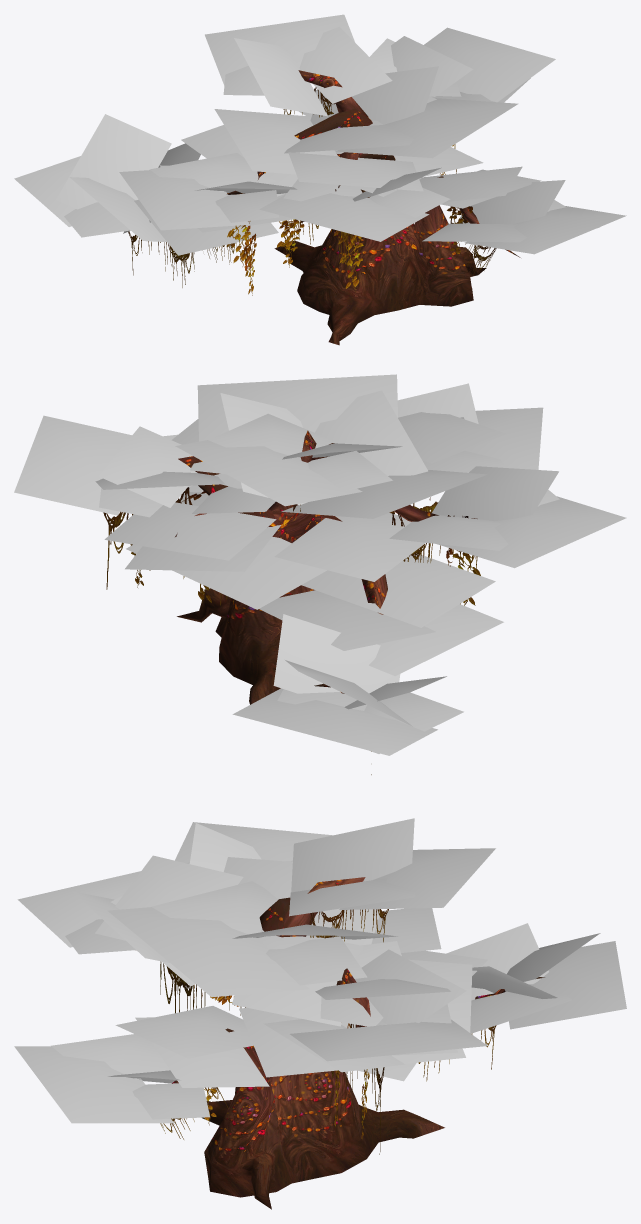
The model's file is environment_Tree_yellow_006_a.FBX.
3 renders of one model, top to bottom at view 1: azimuth 30°, elevation 25°; view 2: azimuth 150°, elevation 25°; view 3: azimuth 270°, elevation 25°, orthographic. The views are drawn at different scales.
Parts seen in each view (by area): view 1: environment_Tree_yellow_006_a, environment_Tree_yellow_006_b, environment_Tree_yellow_006_d, environment_Tree_yellow_006_c; view 2: environment_Tree_yellow_006_a, environment_Tree_yellow_006_b, environment_Tree_yellow_006_c, environment_Tree_yellow_006_d; view 3: environment_Tree_yellow_006_a, environment_Tree_yellow_006_b, environment_Tree_yellow_006_c, environment_Tree_yellow_006_d.
Part boxes in pixels (left/top/right/bottom): environment_Tree_yellow_006_a: left=14, top=14, right=626, bottom=255; environment_Tree_yellow_006_b: left=227, top=70, right=520, bottom=345; environment_Tree_yellow_006_d: left=226, top=145, right=472, bottom=295; environment_Tree_yellow_006_c: left=128, top=87, right=496, bottom=287; environment_Tree_yellow_006_a: left=14, top=374, right=626, bottom=755; environment_Tree_yellow_006_b: left=175, top=430, right=477, bottom=704; environment_Tree_yellow_006_c: left=103, top=487, right=477, bottom=774; environment_Tree_yellow_006_d: left=130, top=491, right=480, bottom=606; environment_Tree_yellow_006_a: left=14, top=818, right=626, bottom=1123; environment_Tree_yellow_006_b: left=172, top=877, right=544, bottom=1209; environment_Tree_yellow_006_c: left=160, top=909, right=496, bottom=1154; environment_Tree_yellow_006_d: left=193, top=985, right=369, bottom=1139.
Size of the model in its own units: 728 by 385 by 716.
